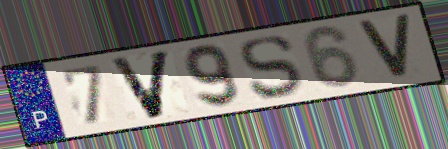6: (300, 23, 366, 92)
7: (59, 62, 107, 127)
9: (179, 43, 245, 110)
S: (236, 33, 304, 103)
V: (106, 47, 175, 122), (353, 12, 414, 81)
